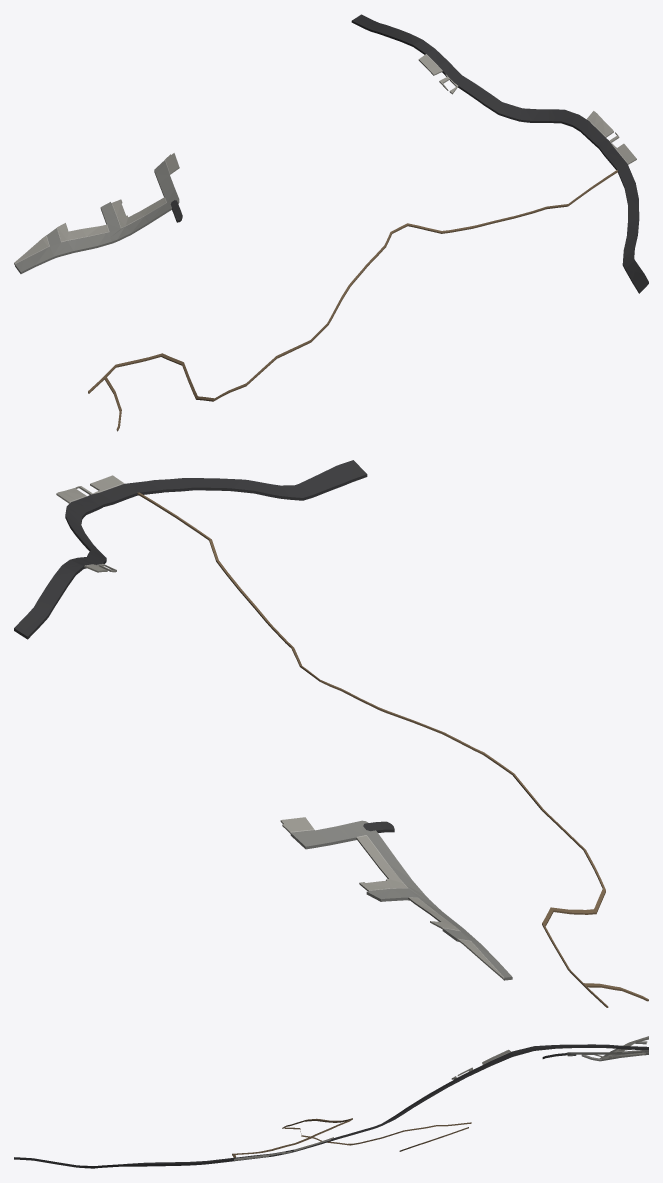
File: 17-109445-59491.10935dea.glb
3 renders of one model, top to bottom at view 1: azimuth 30°, elevation 25°; view 2: azimuth 150°, elevation 25°; view 3: azimuth 270°, elevation 25°, orthographic. The views are drawn at different scales.
Bounding box in the file's own units: 288 × 160 × 292.
